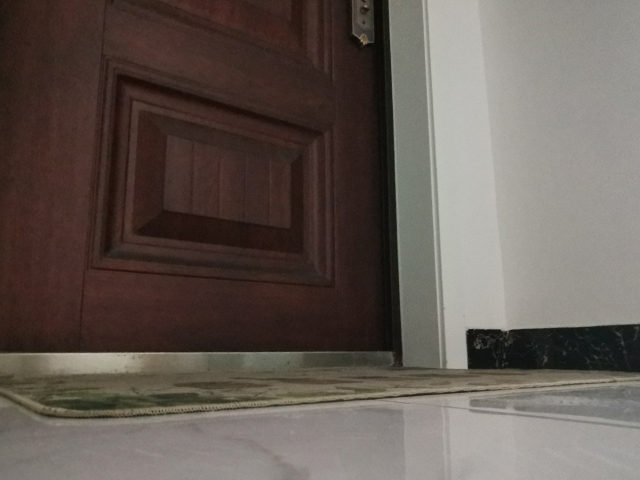carpet: (1, 367, 640, 421)
